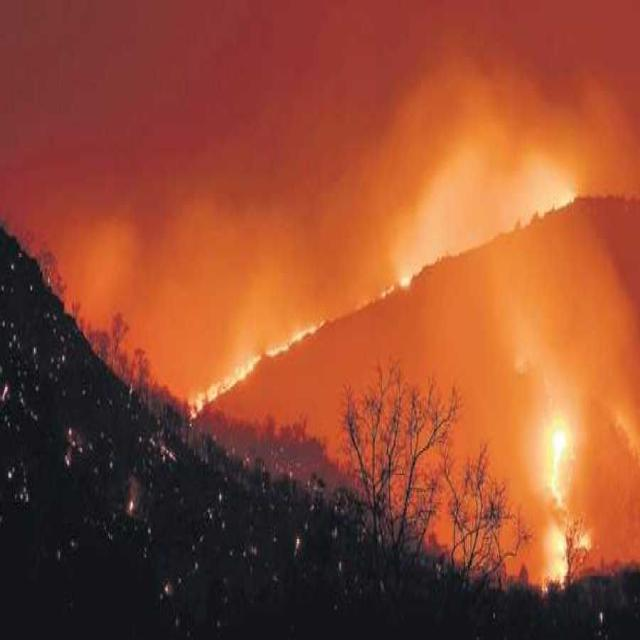Fire: (158, 320, 364, 432), (386, 210, 570, 290), (548, 357, 576, 546)
Smoke: (479, 148, 638, 454)
